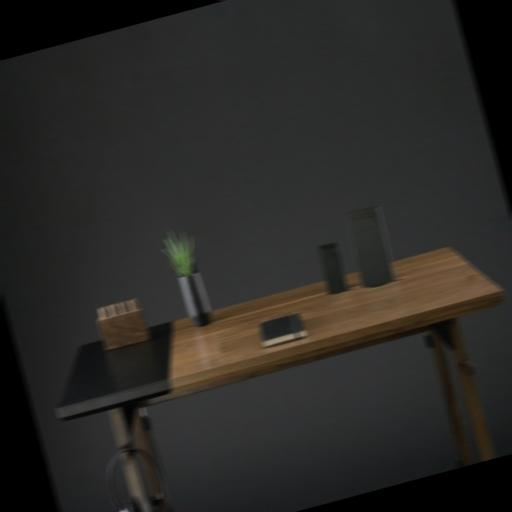desk: (38, 233, 512, 512)
wall: (0, 0, 512, 512)
